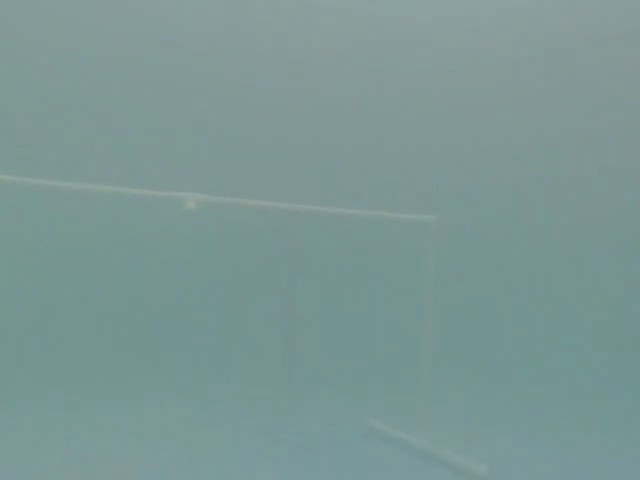gate: (0, 168, 497, 480)
